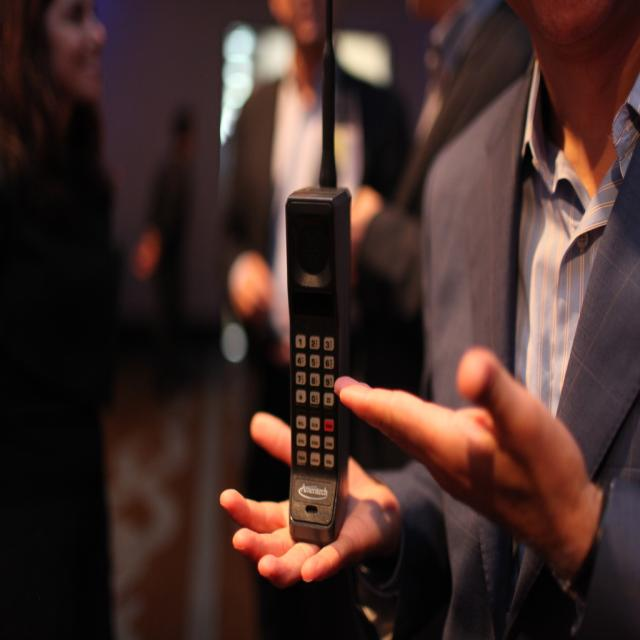Mobile-phone: (284, 0, 354, 542)
